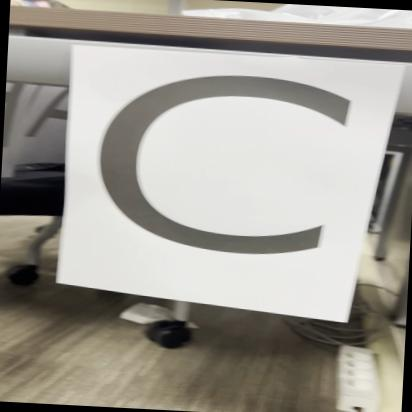seat: (65, 44, 368, 320)
